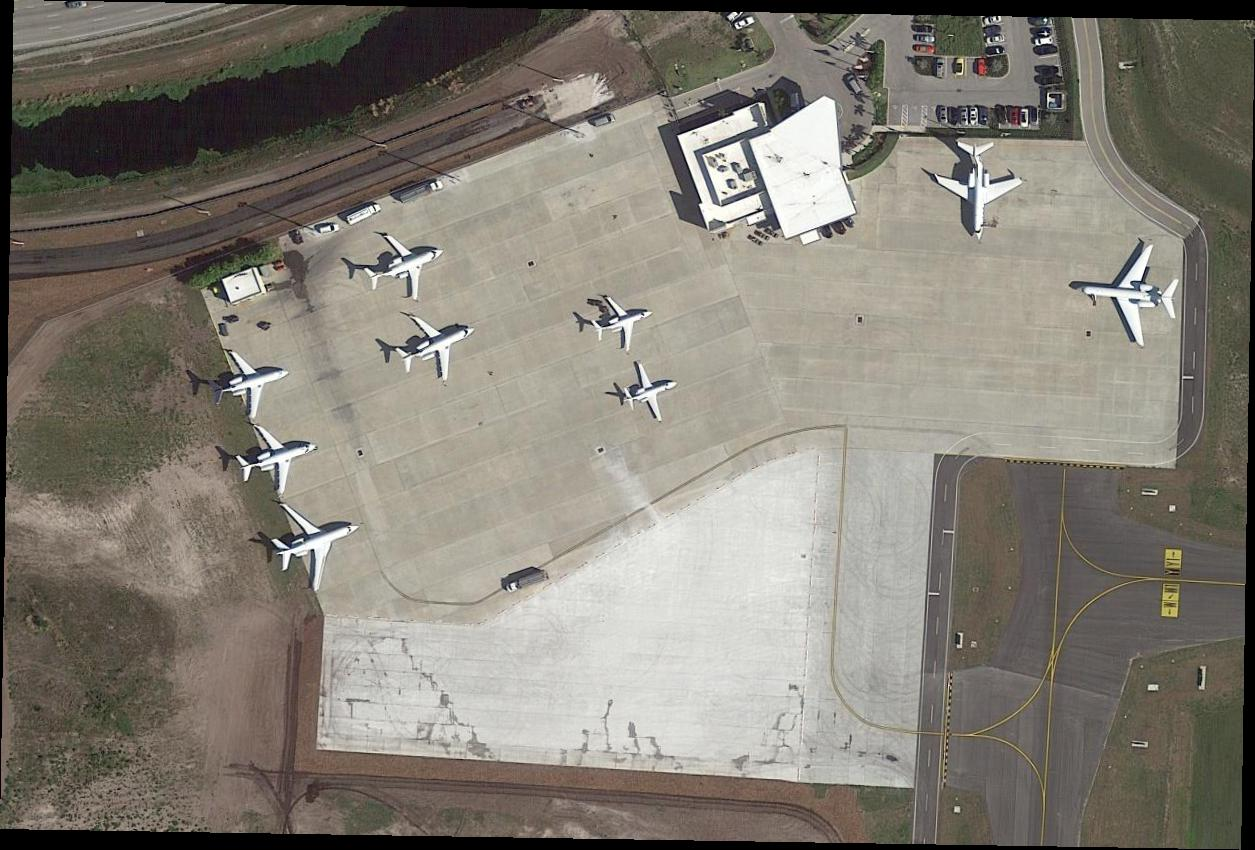plane: (256, 483, 376, 603), (1078, 238, 1184, 355), (387, 293, 488, 395), (352, 218, 456, 316), (228, 410, 328, 506), (932, 142, 1024, 243), (200, 337, 299, 429), (585, 284, 663, 361), (615, 354, 688, 433)
